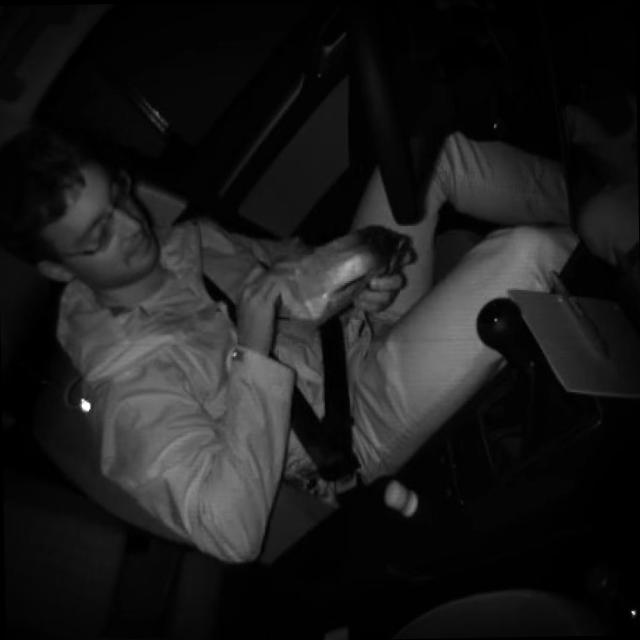pen: (548, 267, 611, 365)
